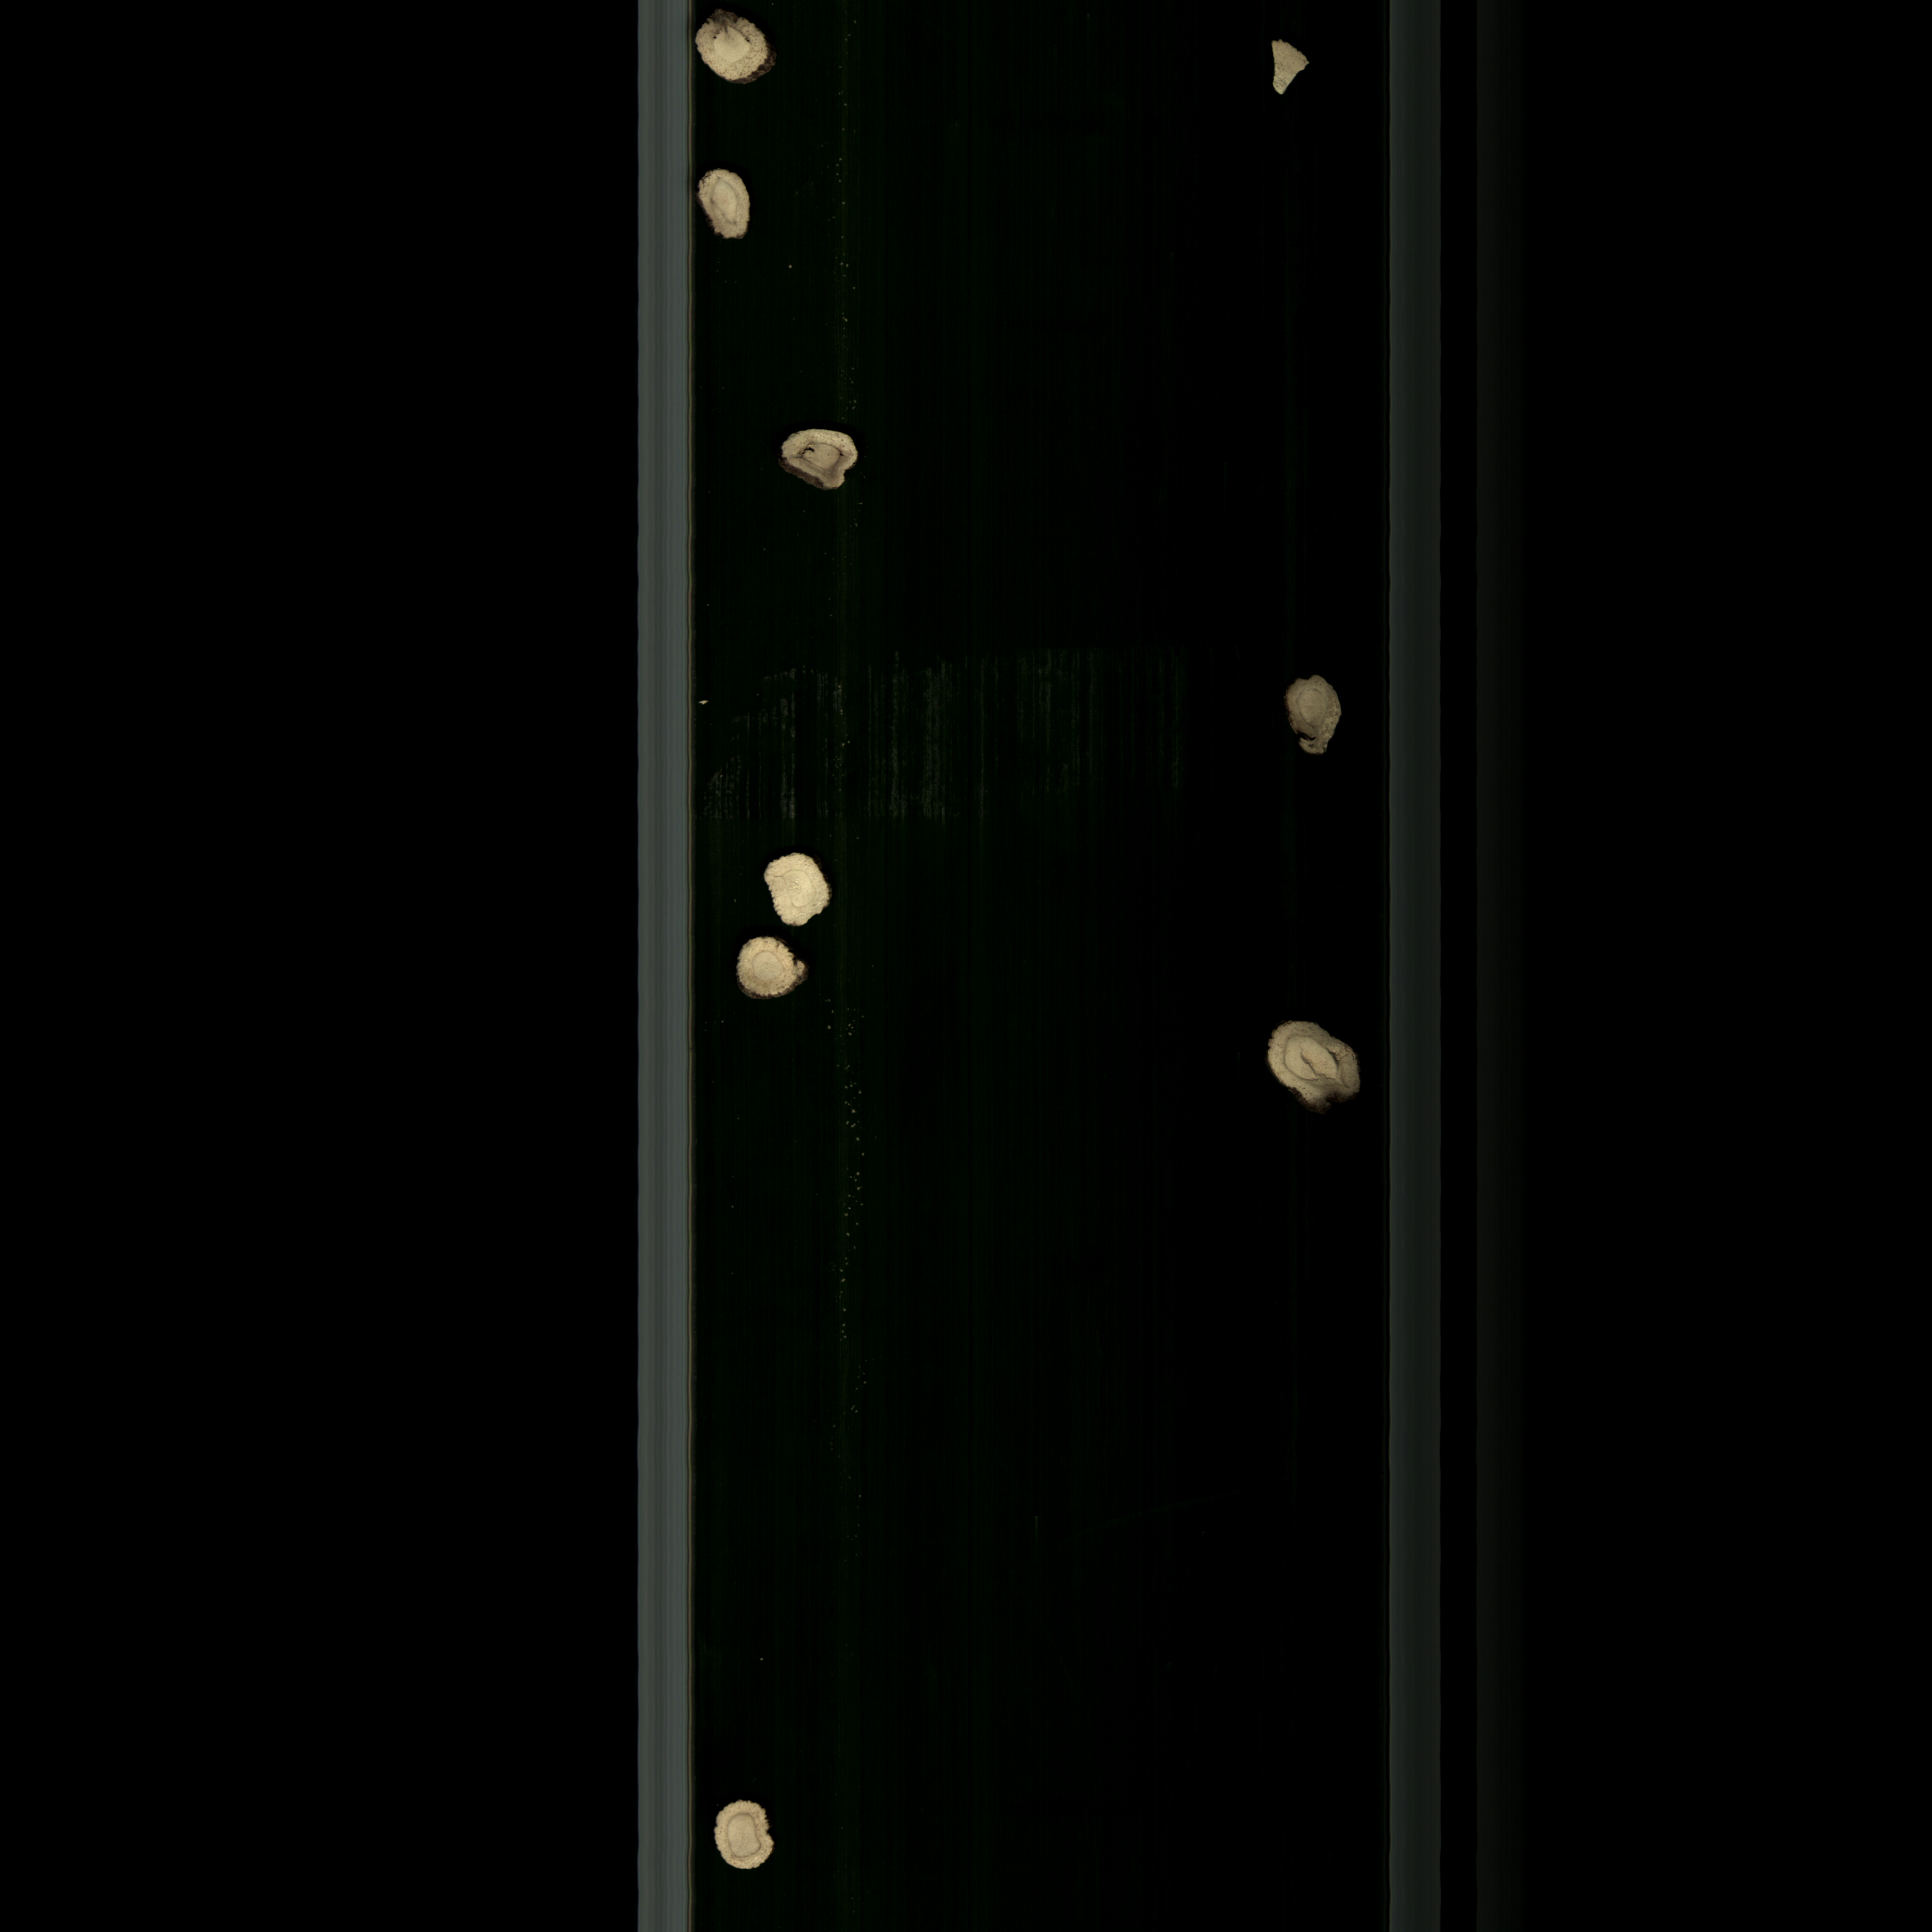distortion: (720, 932, 824, 1016), (692, 165, 761, 258)
dreg: (1261, 34, 1316, 103)
hole: (695, 11, 778, 88)
moldy: (1253, 1016, 1371, 1115), (773, 425, 869, 501), (1281, 671, 1348, 764)
